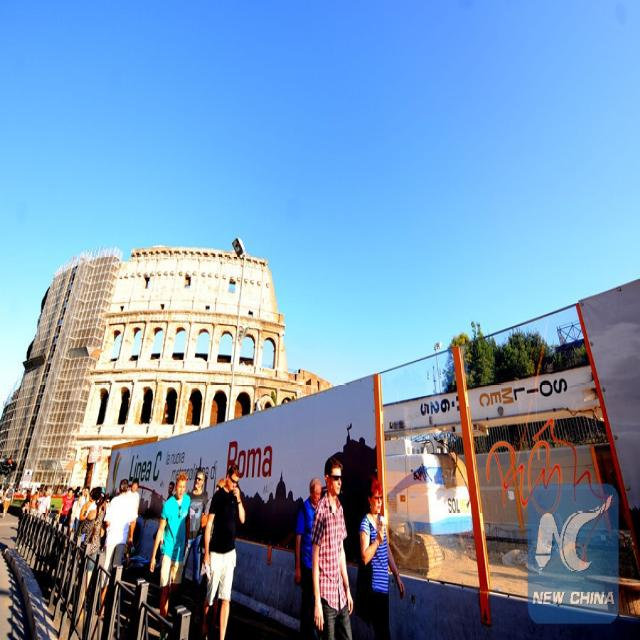body: (0, 476, 227, 639), (355, 475, 407, 639), (311, 455, 355, 640), (201, 463, 246, 640), (148, 469, 193, 639), (95, 477, 137, 620), (294, 476, 323, 639), (102, 476, 141, 587), (180, 466, 209, 585), (57, 486, 76, 527), (0, 480, 15, 519)
